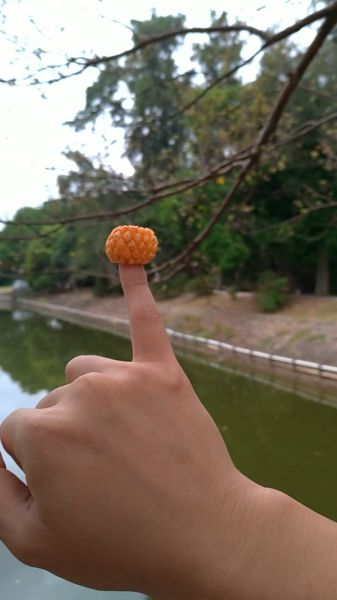eggs: (104, 224, 159, 268)
